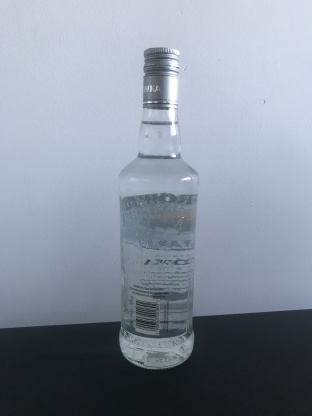nakretka: (141, 44, 181, 111)
